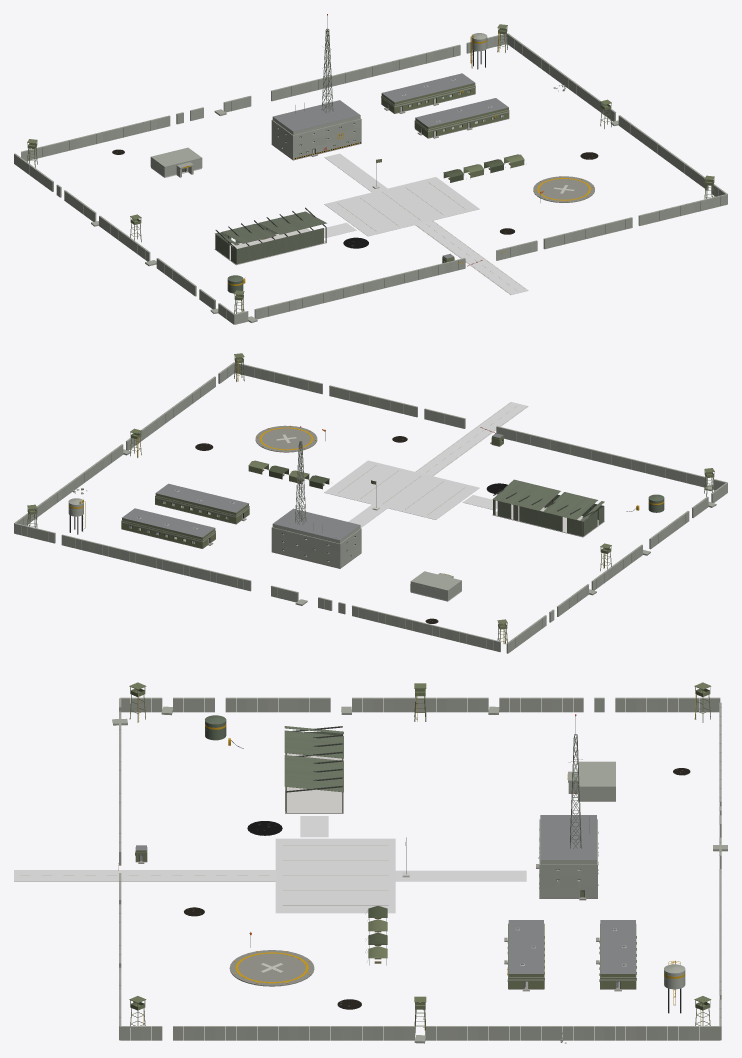
Rendered from garrison.glb.
3 views of the same model, one above another, from view 1: azimuth 30°, elevation 25°; view 2: azimuth 150°, elevation 25°; view 3: azimuth 270°, elevation 25° (orthographic). The views are drawn at different scales.
Visible parts, largest first — view 1: C0_-1_lod0, C0_0_lod0, C1_1_lod0, C-2_-1_lod0, C0_-2_lod0, C-2_1_lod0, C1_0_lod0, C1_-1_lod0, C-1_0_lod0, C-2_-2_lod0, C0_1_lod0, C-1_-2_lod0 (+11 smaller); view 2: C0_-1_lod0, C-2_-1_lod0, C1_1_lod0, C0_0_lod0, C0_-2_lod0, C0_1_lod0, C-2_1_lod0, C1_0_lod0, C1_-1_lod0, C-1_1_lod0, C-2_-2_lod0, C-1_-2_lod0 (+11 smaller); view 3: C0_-1_lod0, C0_0_lod0, C-2_-1_lod0, C1_1_lod0, C0_-2_lod0, C1_-1_lod0, C2_0_lod0, C-3_0_lod0, C2_-1_lod0, C1_0_lod0, C-3_-1_lod0, C2_1_lod0 (+6 smaller).
Boxes of the visible parts, box(x1,y1,x2,y2) form: C0_-1_lod0: box(324, 159, 490, 236); C0_0_lod0: box(271, 14, 524, 192); C1_1_lod0: box(365, 33, 487, 113); C-2_-1_lod0: box(214, 214, 326, 265); C0_-2_lod0: box(415, 220, 591, 294); C-2_1_lod0: box(48, 119, 202, 177); C1_0_lod0: box(415, 98, 509, 138); C1_-1_lod0: box(484, 152, 598, 202); C-1_0_lod0: box(271, 117, 332, 159); C-2_-2_lod0: box(227, 275, 370, 316); C0_1_lod0: box(271, 68, 412, 120); C-1_-2_lod0: box(370, 225, 510, 294); C0_-1_lod0: box(282, 460, 479, 519); C-2_-1_lod0: box(492, 483, 604, 537); C1_1_lod0: box(48, 498, 215, 568); C0_0_lod0: box(219, 426, 387, 568); C0_-2_lod0: box(370, 395, 528, 475); C0_1_lod0: box(156, 524, 341, 591); C-2_1_lod0: box(365, 571, 473, 645); C1_0_lod0: box(155, 483, 249, 524); C1_-1_lod0: box(195, 425, 325, 479); C-1_1_lod0: box(271, 522, 365, 619); C-2_-2_lod0: box(591, 449, 693, 512); C-1_-2_lod0: box(433, 406, 591, 475); C0_-1_lod0: box(259, 837, 409, 945); C0_0_lod0: box(368, 714, 597, 958); C-2_-1_lod0: box(284, 726, 343, 813); C1_1_lod0: box(596, 920, 721, 1013); C0_-2_lod0: box(14, 870, 275, 935); C1_-1_lod0: box(229, 932, 386, 1009); C2_0_lod0: box(414, 996, 593, 1043); C-3_0_lod0: box(414, 683, 583, 721); C2_-1_lod0: box(246, 1002, 425, 1040); C1_0_lod0: box(504, 920, 544, 991); C-3_-1_lod0: box(246, 689, 425, 721); C2_1_lod0: box(594, 996, 721, 1040).
Size of what is drawn, in the model's own units: 224 by 53.61 by 202.
